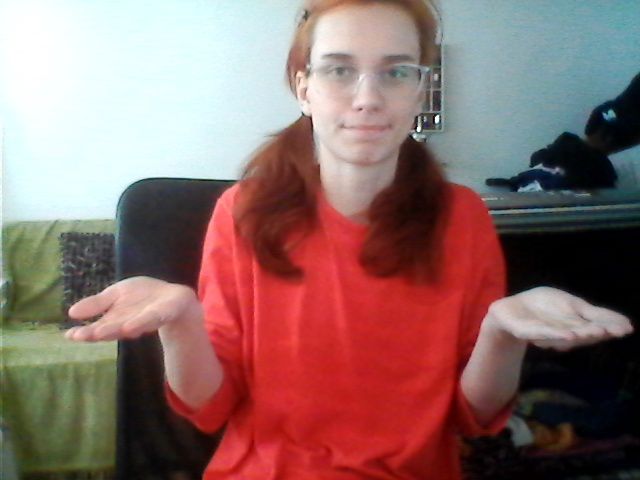alebo: (52, 269, 636, 385)
